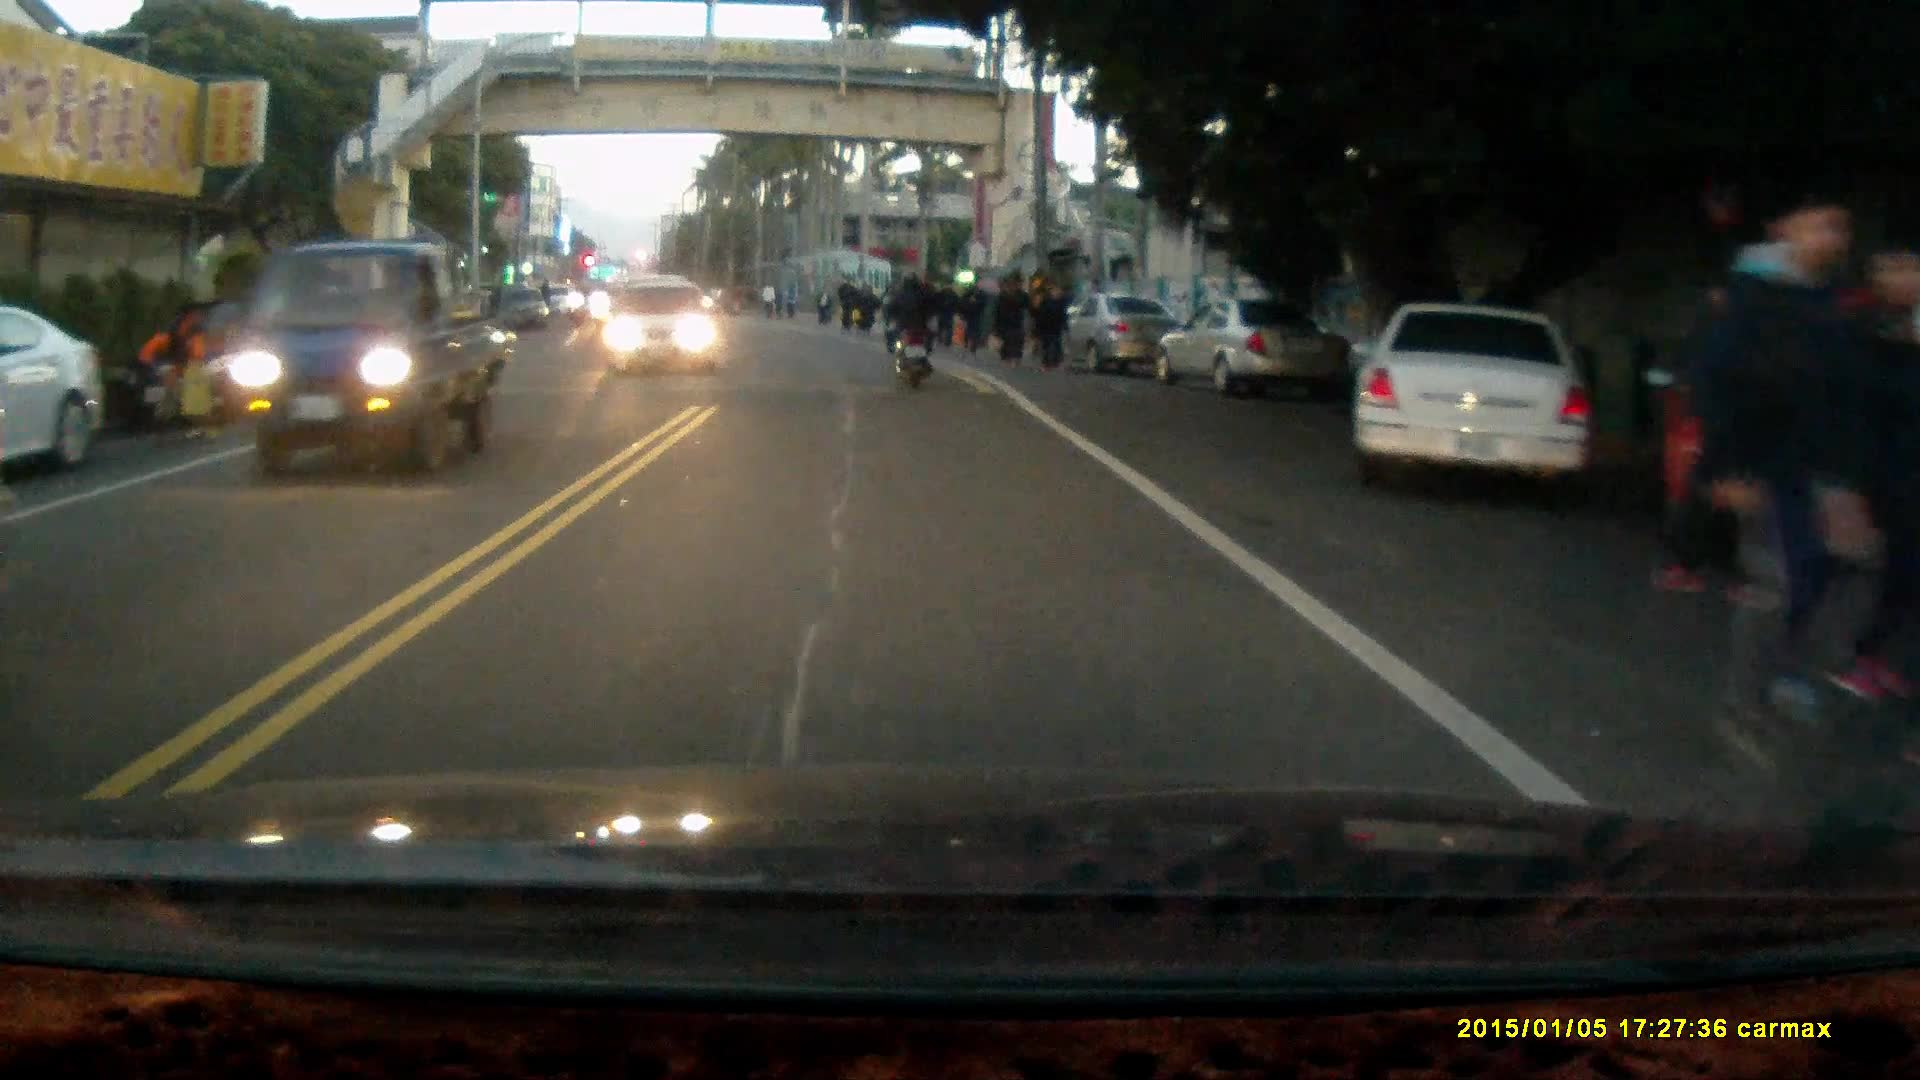pedestrian: (1695, 181, 1869, 780), (1830, 237, 1920, 739), (997, 265, 1031, 363), (992, 273, 1023, 368), (957, 270, 985, 357), (1039, 281, 1068, 363), (931, 274, 959, 351)
rider: (877, 267, 939, 390)
vehicle: (225, 239, 515, 481), (1352, 295, 1600, 486), (1164, 296, 1348, 400), (605, 279, 720, 373), (1057, 290, 1184, 373)
